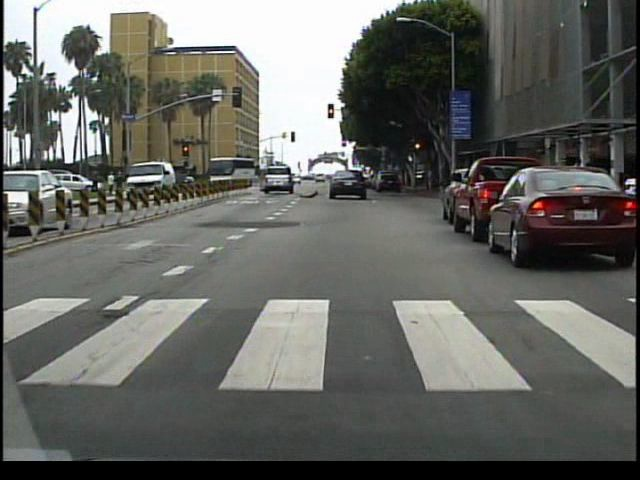person: (111, 172, 127, 206), (90, 170, 103, 200), (107, 171, 119, 198)
